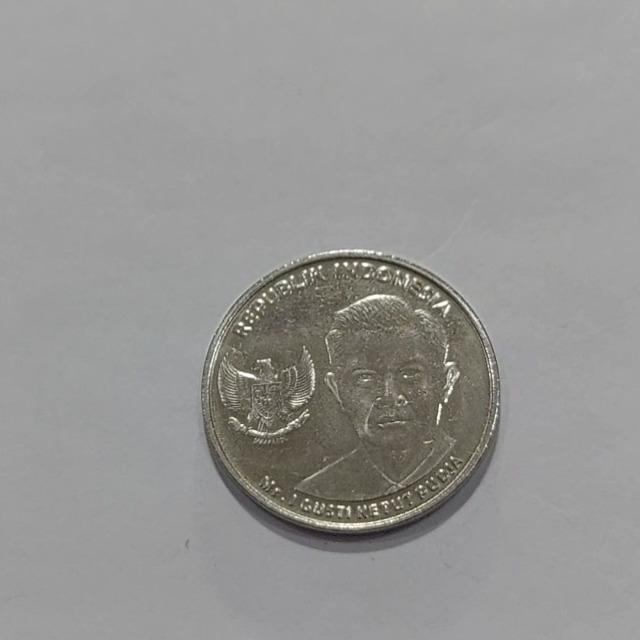Rp100: (200, 247, 502, 536), (290, 291, 465, 505)
